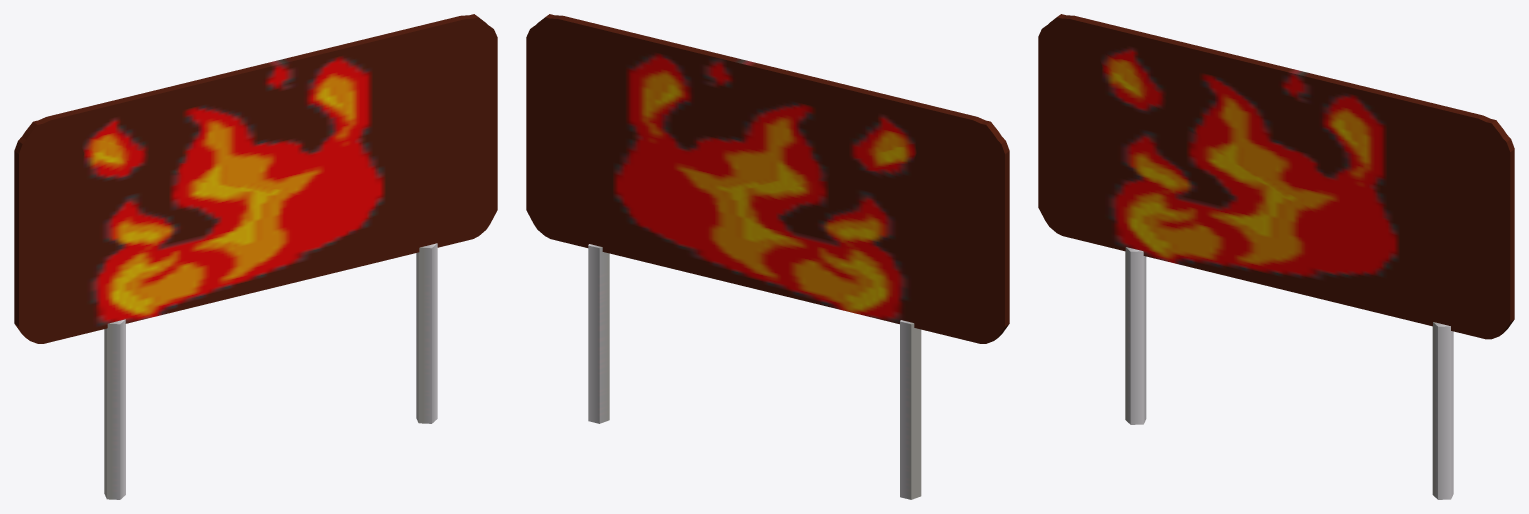
Rendered from SSign.glb.
3 views of the same model, side by side, from view 1: azimuth 30°, elevation 25°; view 2: azimuth 150°, elevation 25°; view 3: azimuth 330°, elevation 25° (orthographic).
Visible parts, largest first — view 1: SSign; view 2: SSign; view 3: SSign.
Boxes of the visible parts, box(x1,y1,x2,y2) form: SSign: box(14, 14, 497, 499); SSign: box(526, 14, 1009, 499); SSign: box(1038, 14, 1514, 499).
Bounding box in the file's own units: 150 × 118 × 5.52.
1 material, 1 textured.
